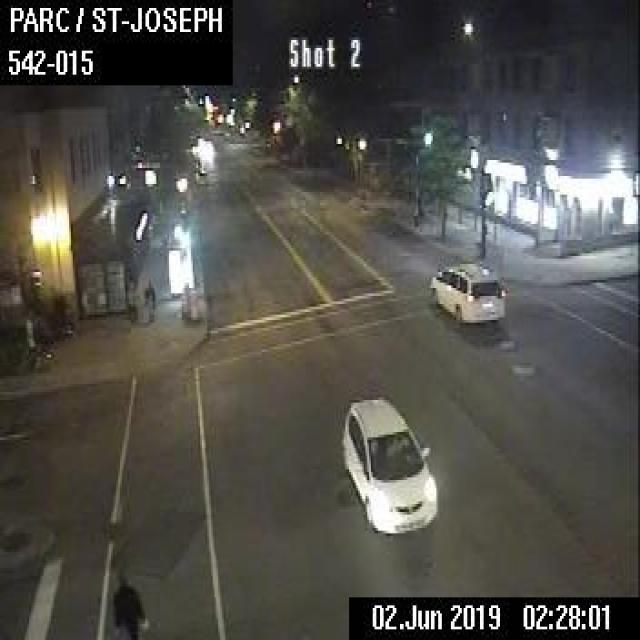construction: (178, 284, 188, 318), (189, 290, 198, 320)
pedestrian: (111, 576, 145, 637), (143, 275, 155, 319), (125, 280, 135, 318)
vehicle: (338, 392, 436, 531), (428, 258, 505, 322)
